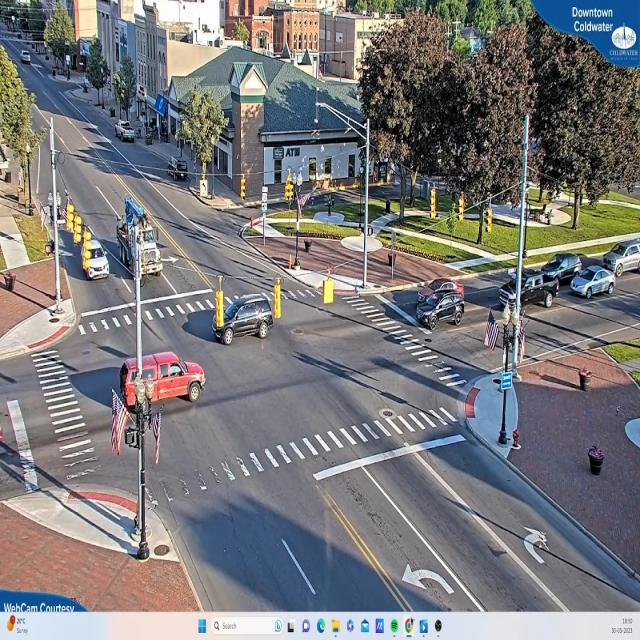car: (123, 351, 205, 407), (191, 294, 274, 344), (500, 274, 560, 312), (416, 288, 466, 328), (82, 237, 114, 291), (567, 266, 616, 298), (542, 254, 594, 284), (605, 239, 639, 277), (117, 120, 139, 143), (21, 52, 31, 63)
truck: (114, 192, 169, 290)
